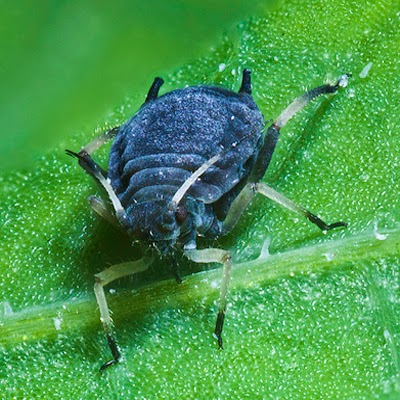Aphids: (47, 51, 362, 384)
